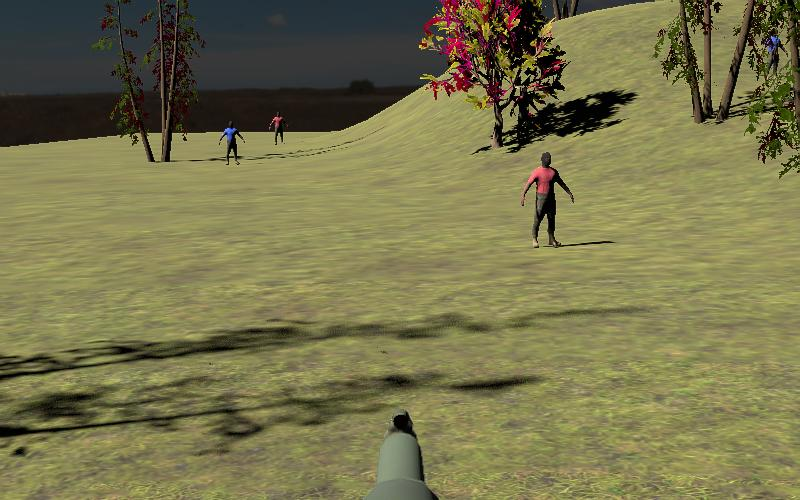Human: (521, 151, 574, 248), (219, 119, 245, 166)
